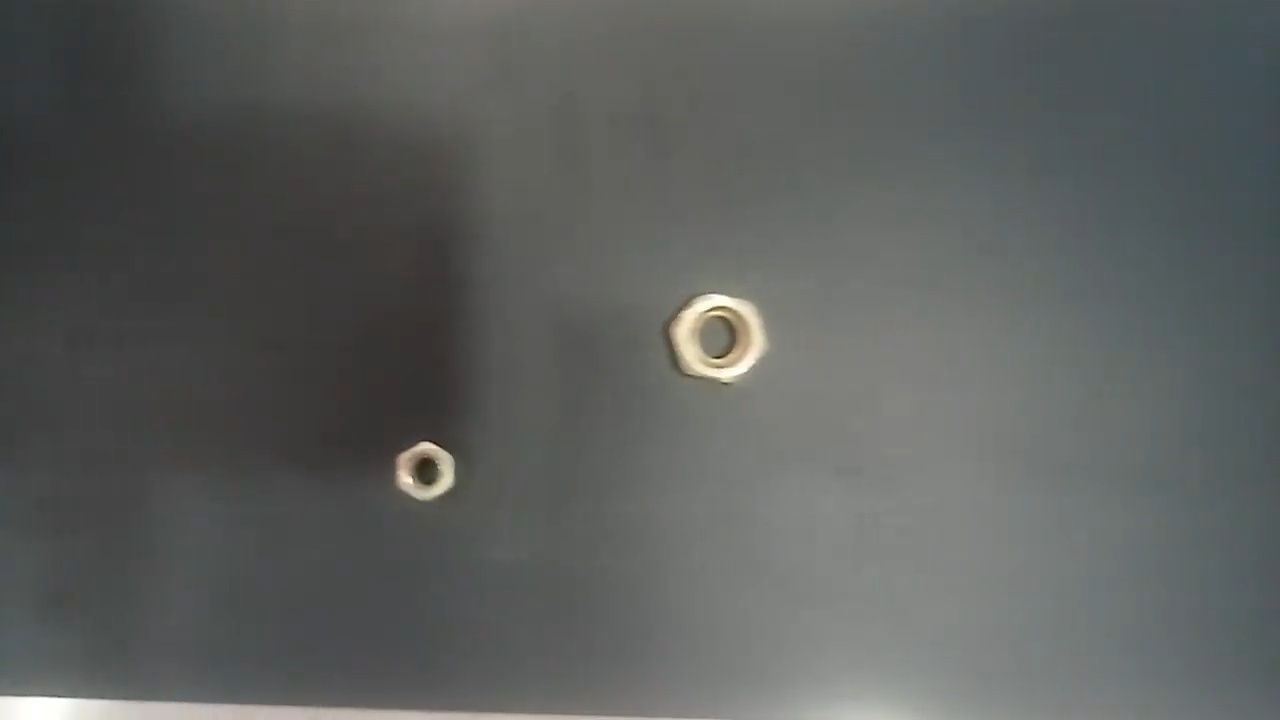Bolt: (664, 287, 771, 382), (390, 436, 467, 507)
